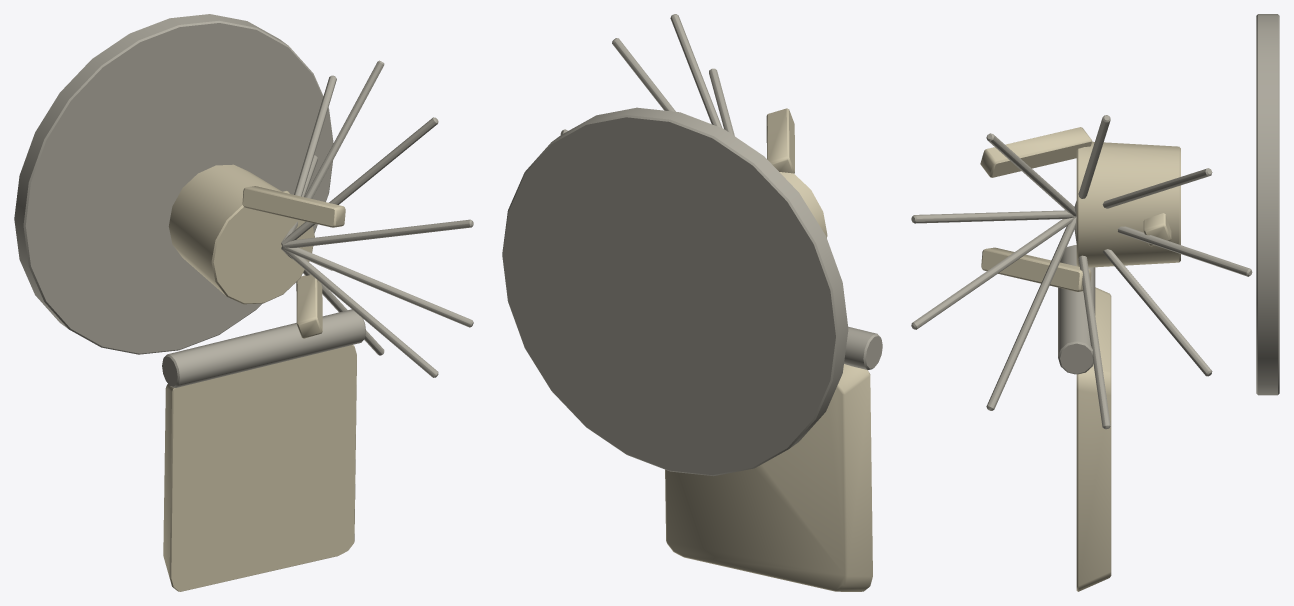
File: LV_desk_fan.fbx
3 views of the same model, side by side, from view 1: azimuth 30°, elevation 25°; view 2: azimuth 150°, elevation 25°; view 3: azimuth 270°, elevation 25° (orthographic). The views are drawn at different scales.
Visible parts, largest first — view 1: LV_desk_fan; view 2: LV_desk_fan; view 3: LV_desk_fan.
Boxes of the visible parts, box(x1,y1,x2,y2) form: LV_desk_fan: box(14, 14, 473, 591); LV_desk_fan: box(502, 14, 882, 591); LV_desk_fan: box(911, 14, 1279, 591).
Bounding box in the file's own units: 0.33 × 0.4945 × 0.3175.
